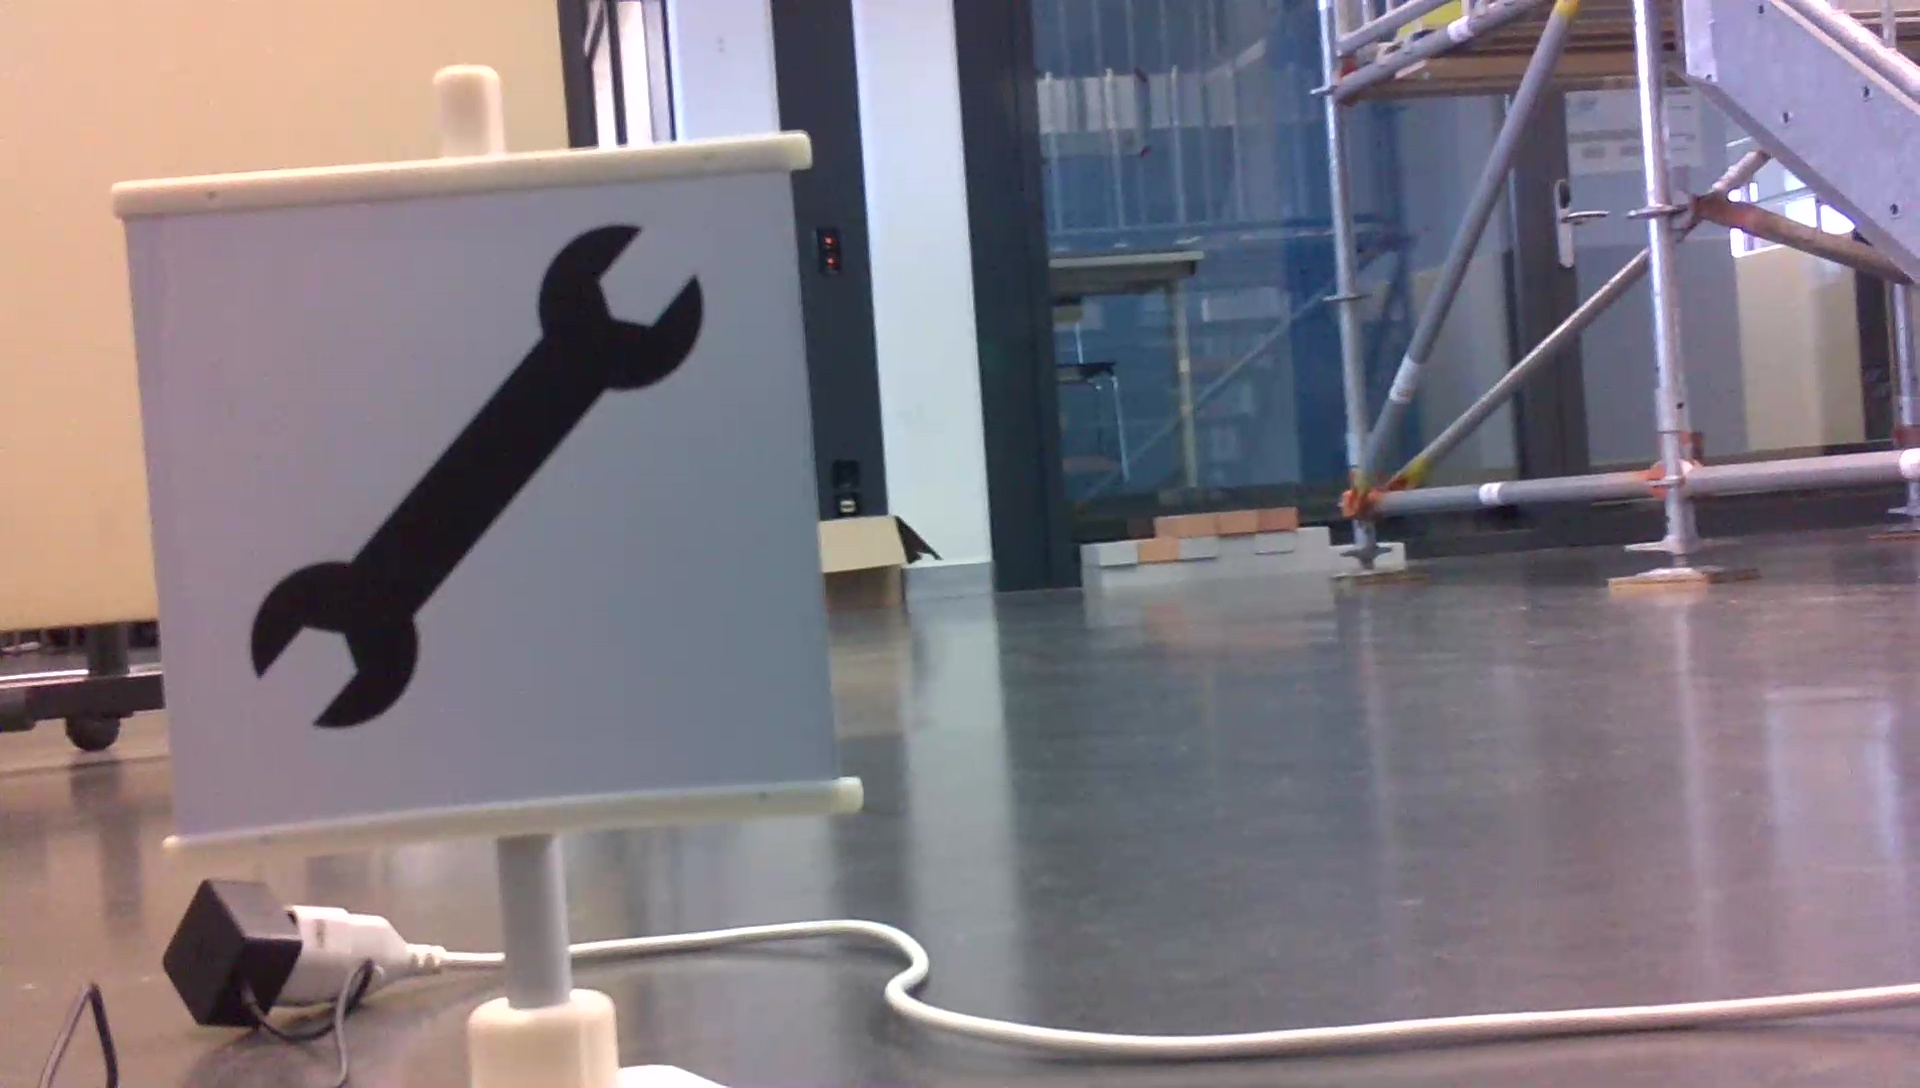wrench: (237, 218, 713, 737)
